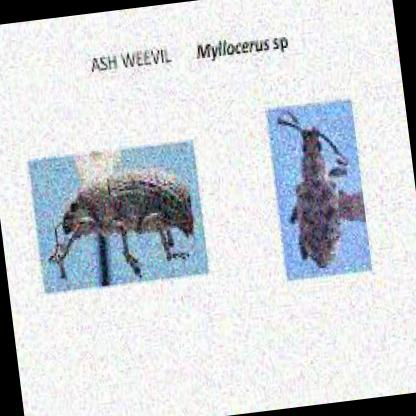ash weevil: (51, 171, 193, 275), (283, 123, 336, 264)
